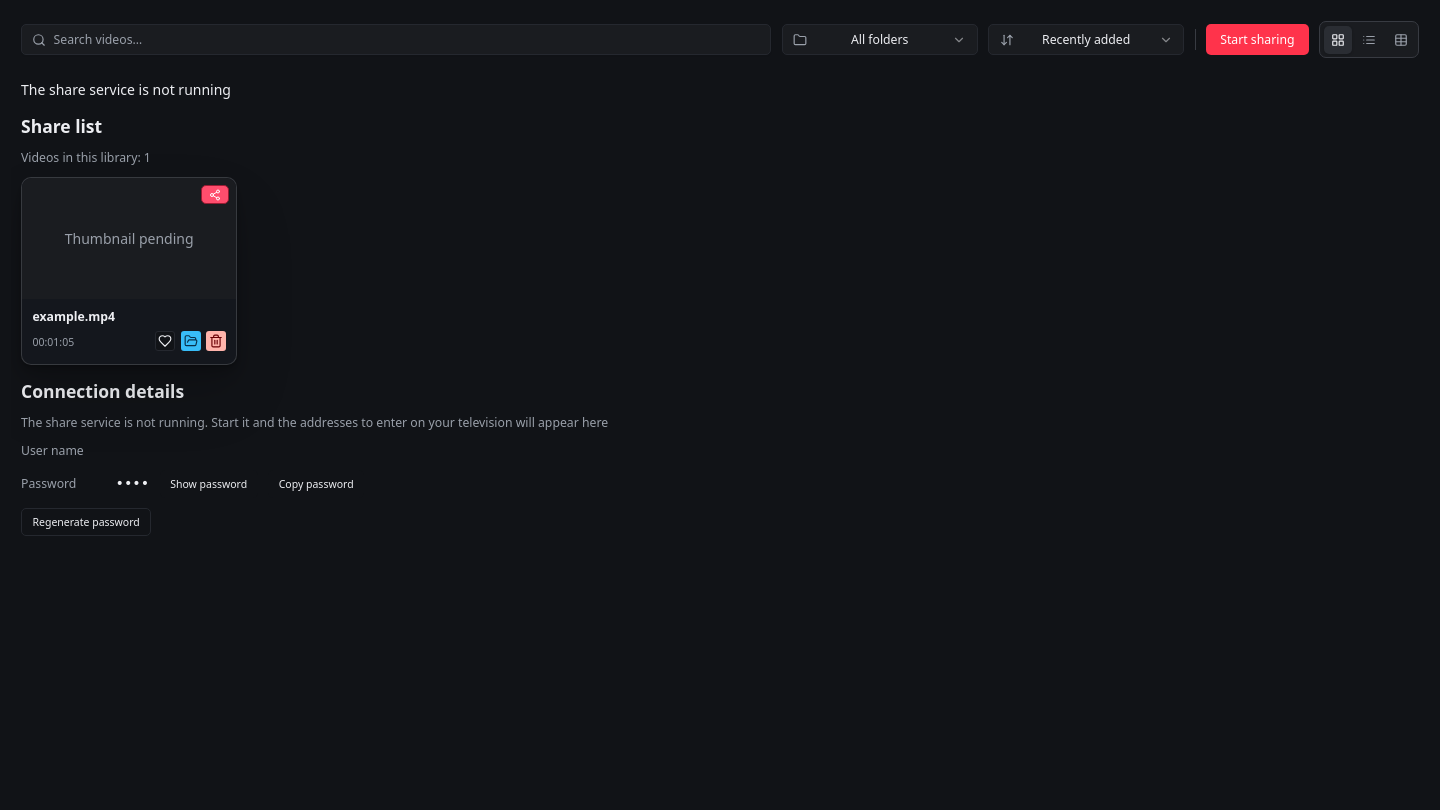
Test: regenerates the password, and shows what the backend answered
Step 1. Click the button "Regenerate password" → [86, 522], box [21,508,151,536]
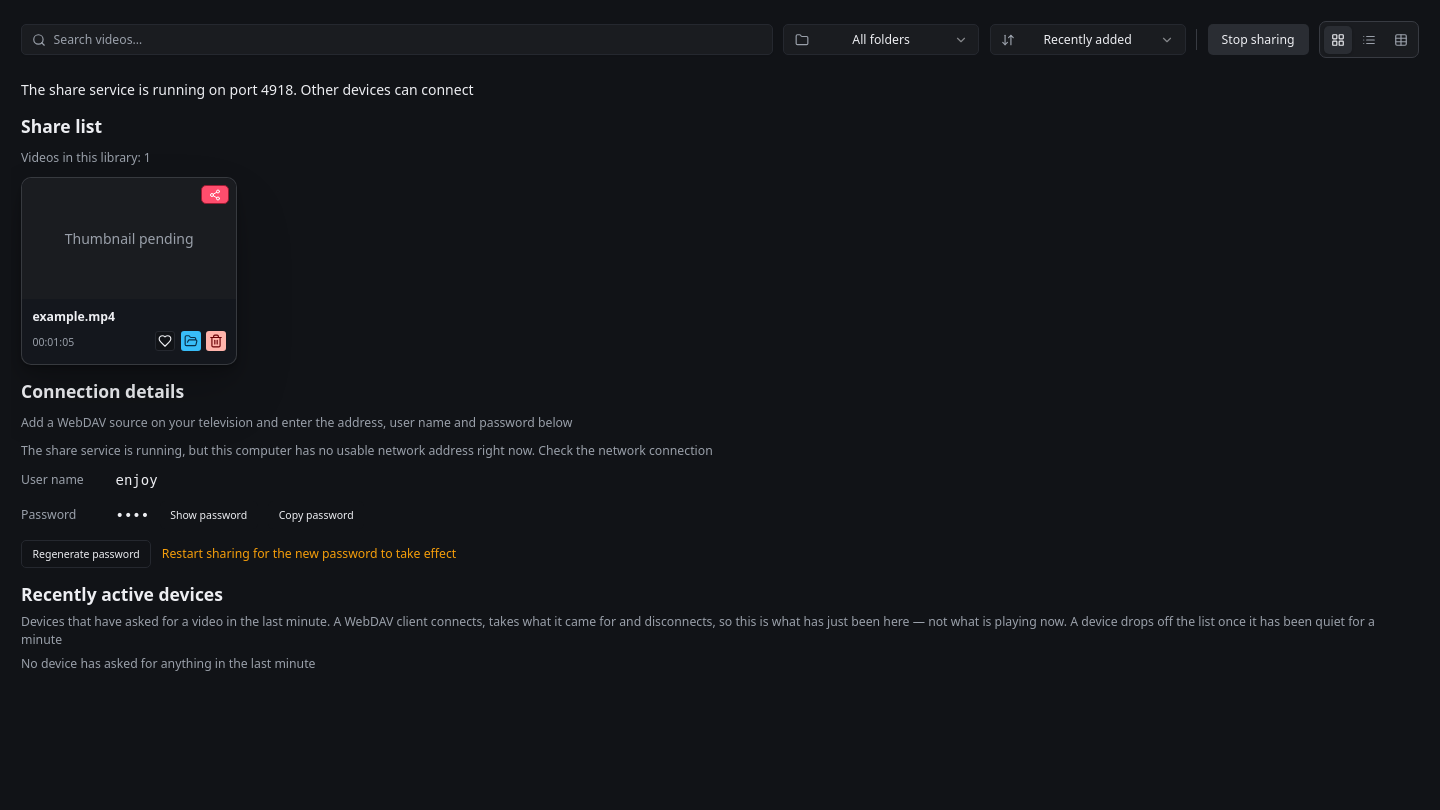
Expected: the text "Restart sharing for the new password to take effect" is shown, [162,545,456,562]
Step 2. Click the button "Show password" → [209, 515], box [160,501,258,529]
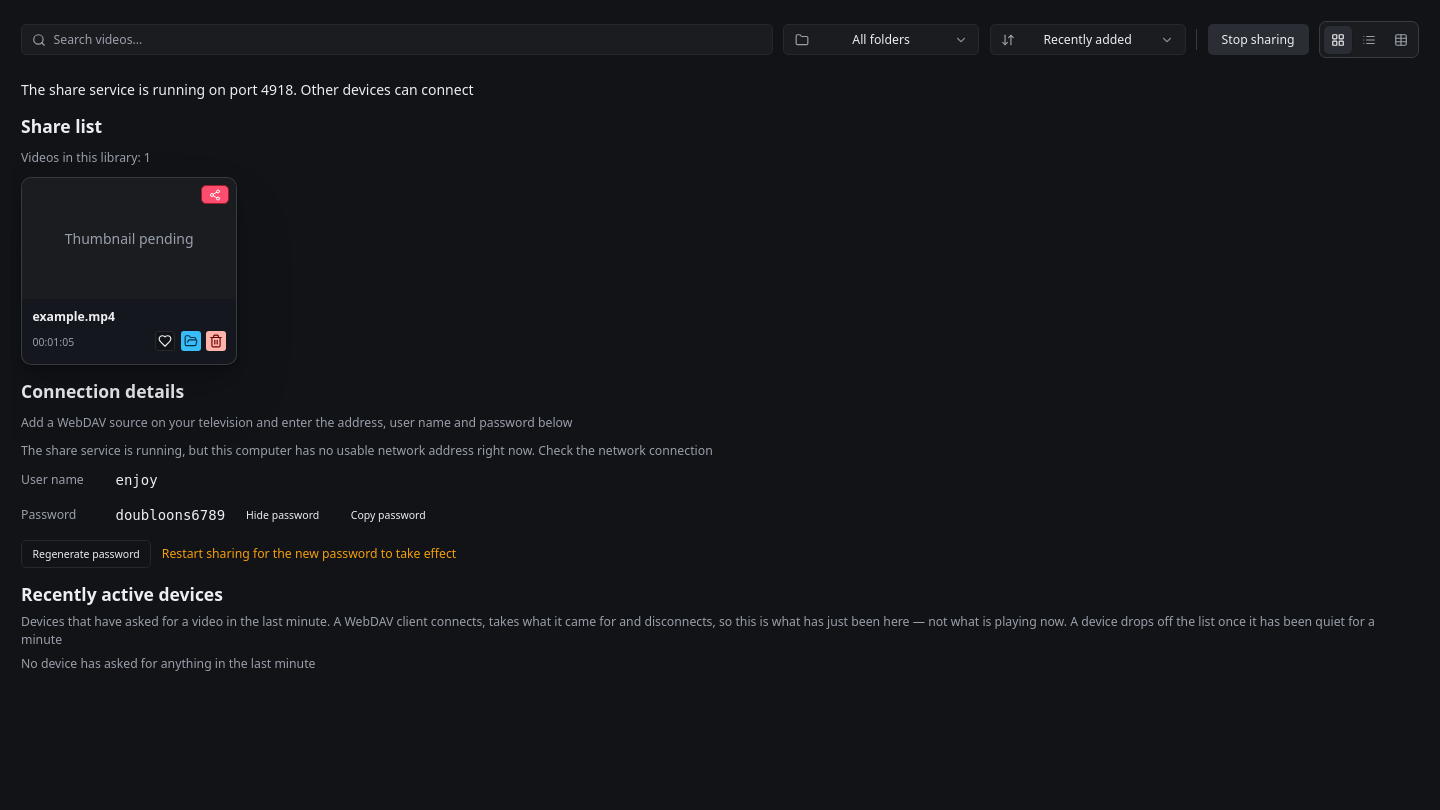
Expected: the text "doubloons6789" is shown, [116,505,225,526]
